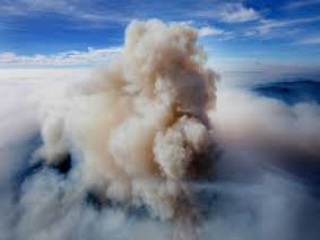smoke: (65, 27, 229, 216)
